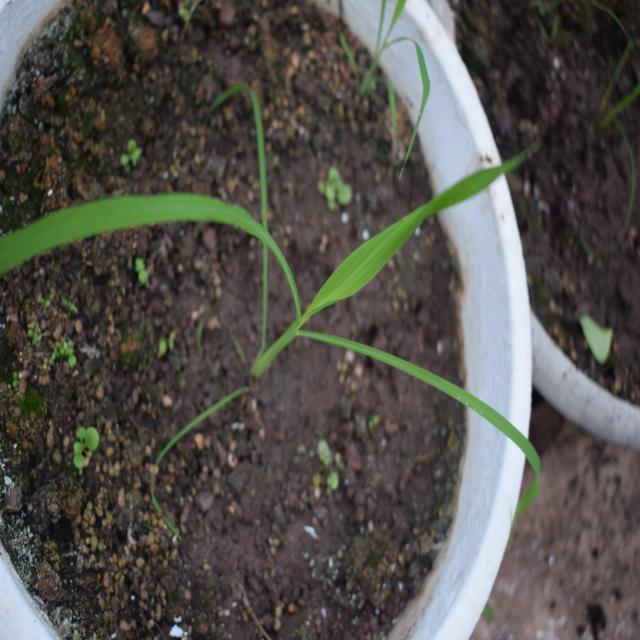barnyard_grass: (4, 139, 560, 478)
